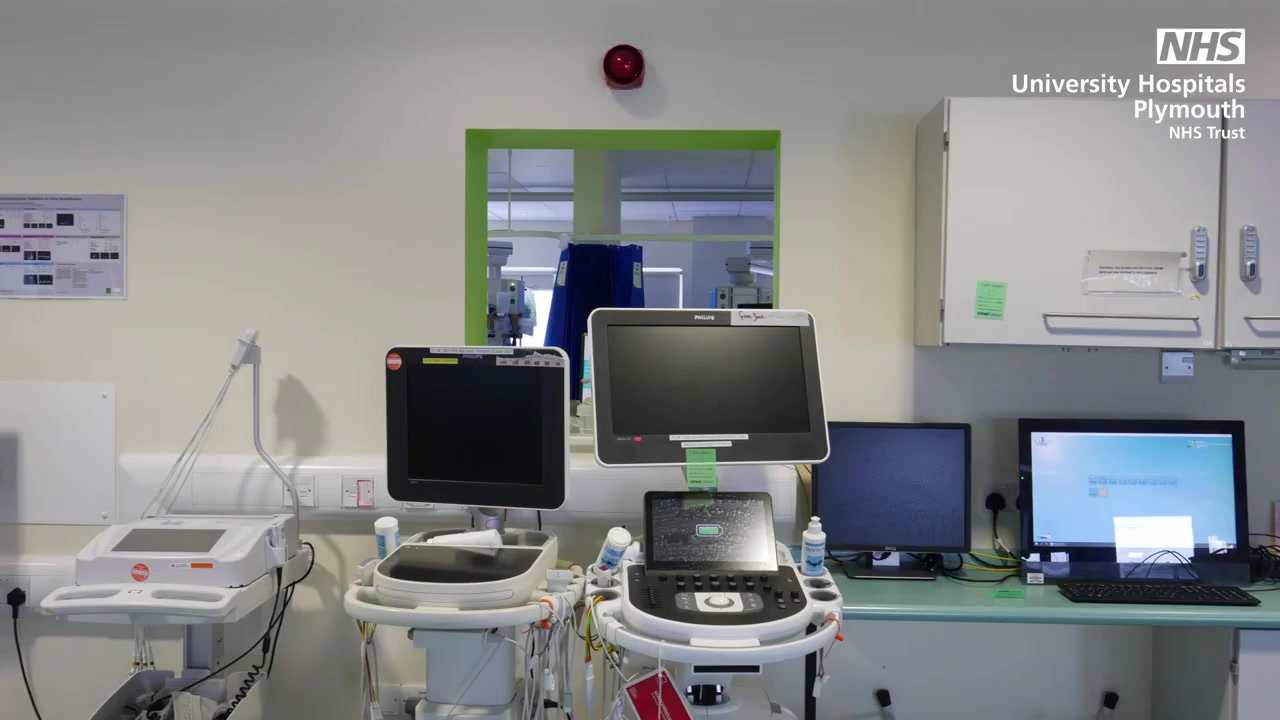cabinet: (914, 98, 1280, 355)
computer: (1017, 418, 1252, 558), (810, 420, 972, 555)
countertop: (830, 546, 1279, 628)
handle: (1042, 311, 1200, 322), (1244, 314, 1280, 322)
keyboard: (1057, 581, 1263, 605)
ventilator: (583, 308, 841, 720), (366, 344, 576, 720)
